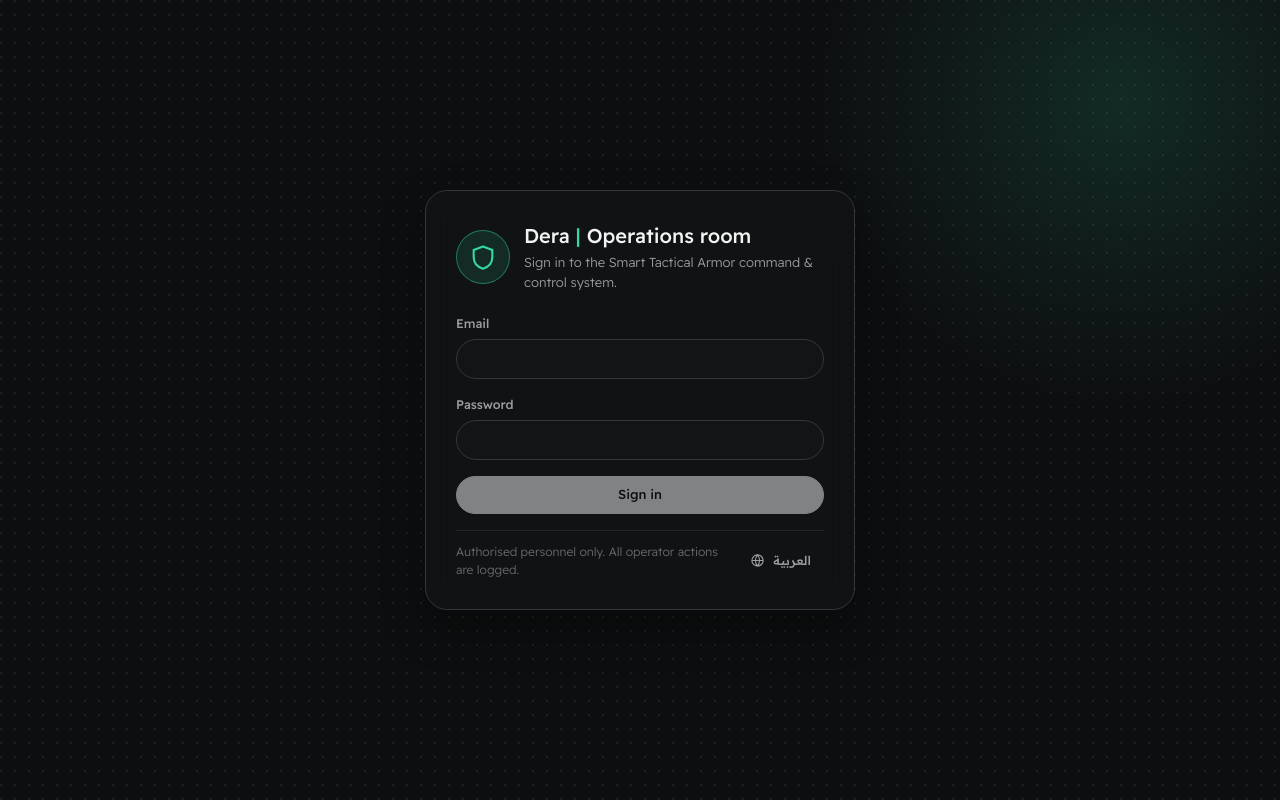
Scenario: LoginPage › shows the server message when credentials are rejected
The image size is (1280, 800).
In the field labelled "Email": [640, 359] box [456,339,824,379], type "ops@sta.test"
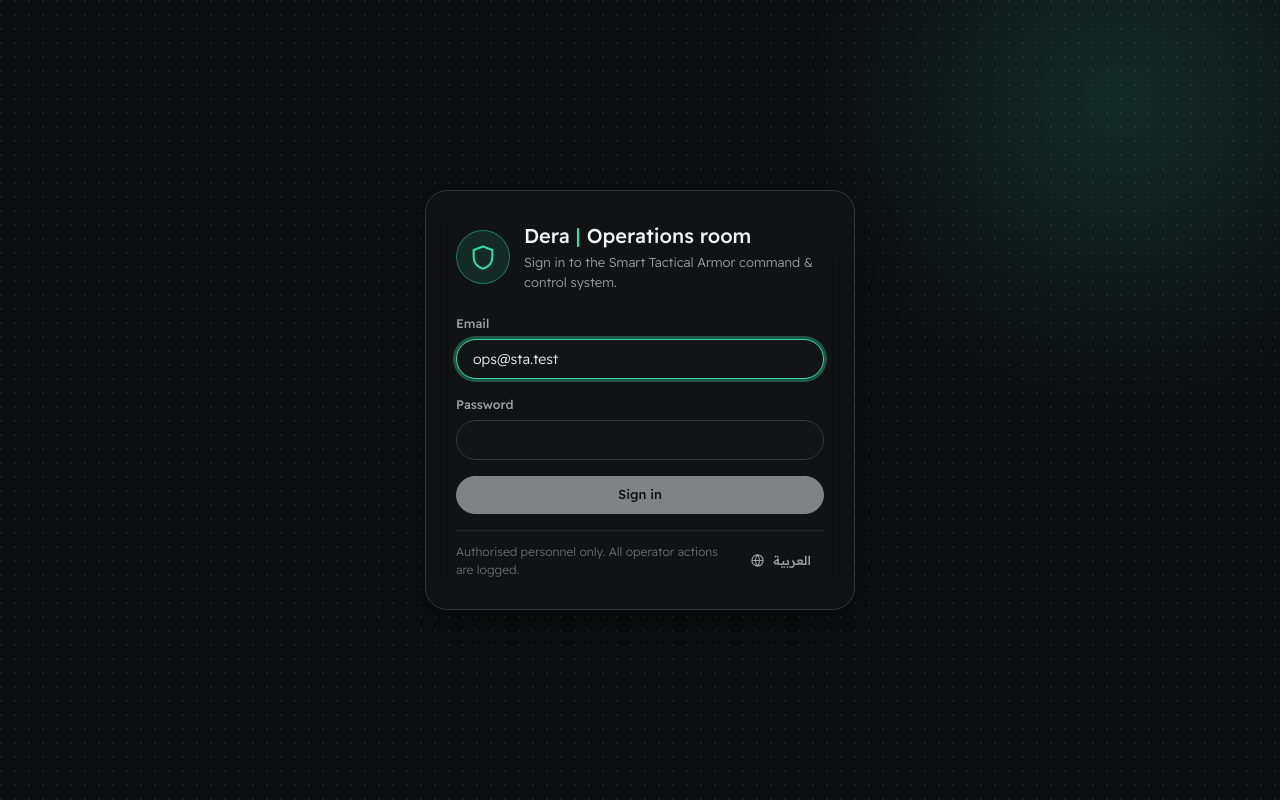
In the password field labelled "Password": [640, 440] box [456,420,824,460], type "wrong-pass"
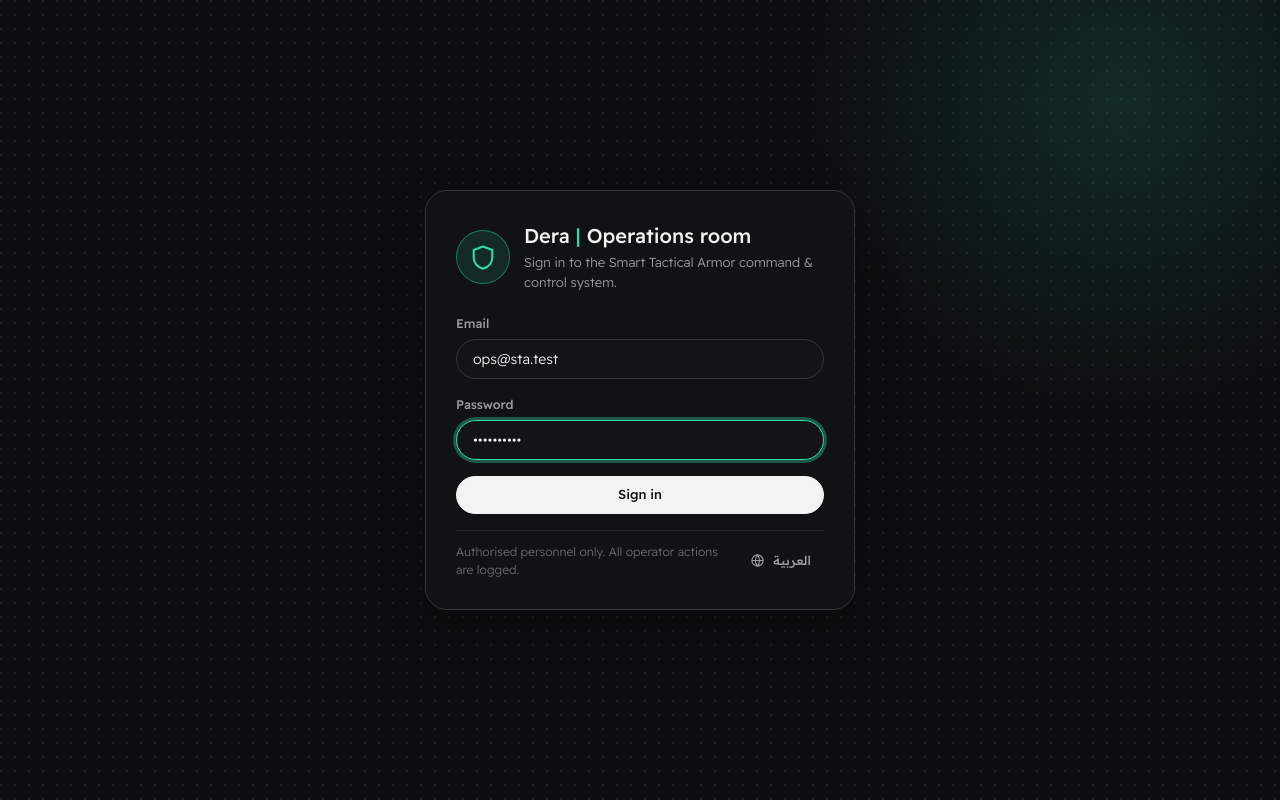
Click the button "Sign in": [640, 495] box [456,476,824,514]
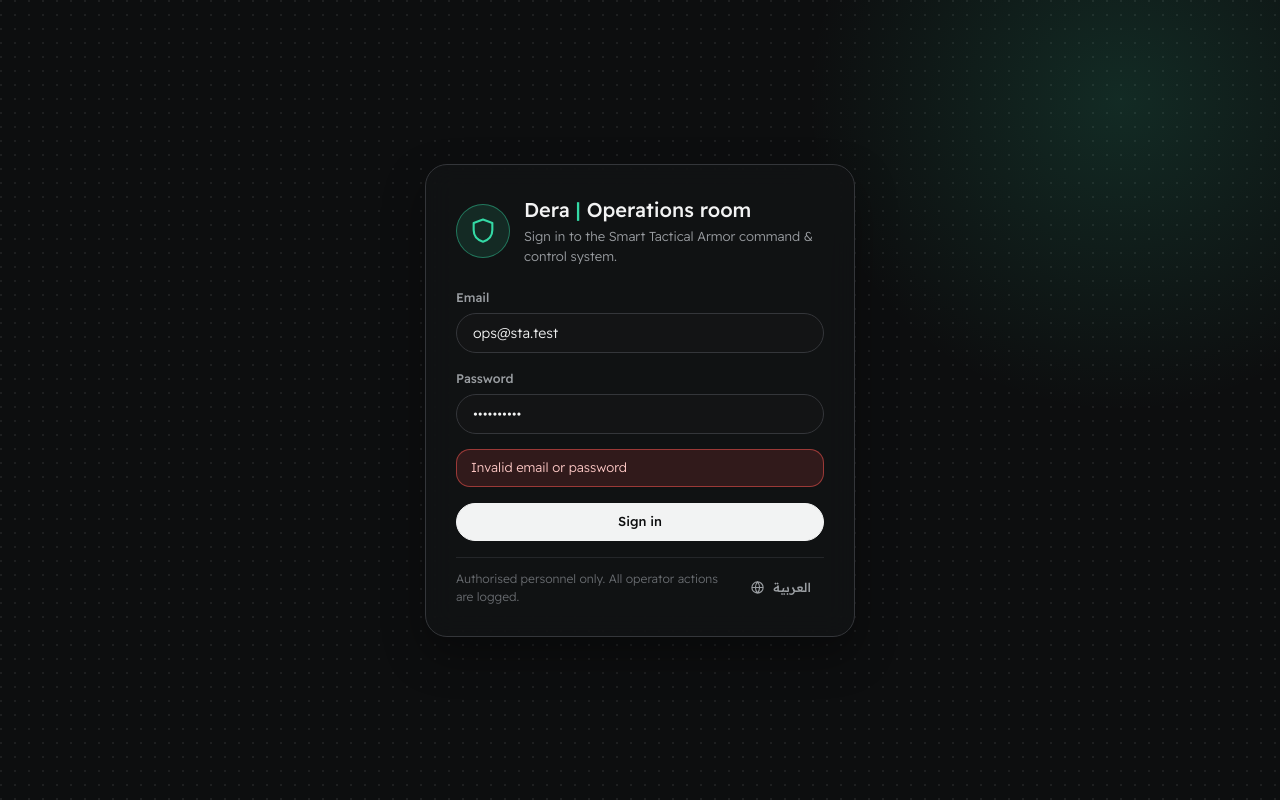
Check: the message reads "Invalid email or password", box [471,459,627,475]
